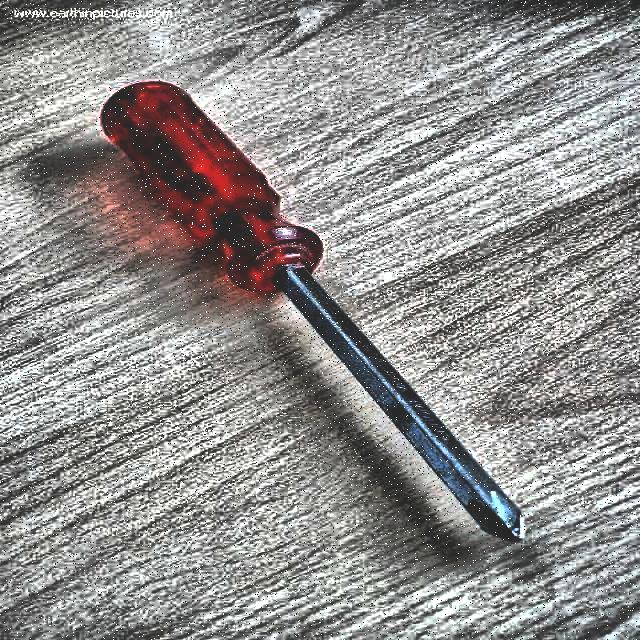screwdriver: (99, 78, 528, 544)
